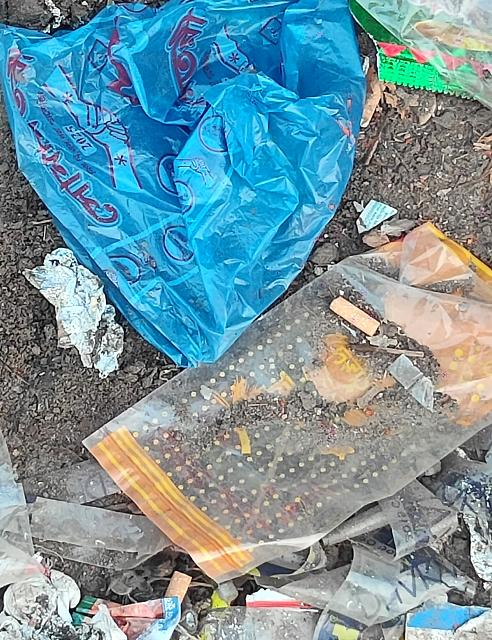polythene: (86, 196, 492, 600), (11, 25, 356, 273)
